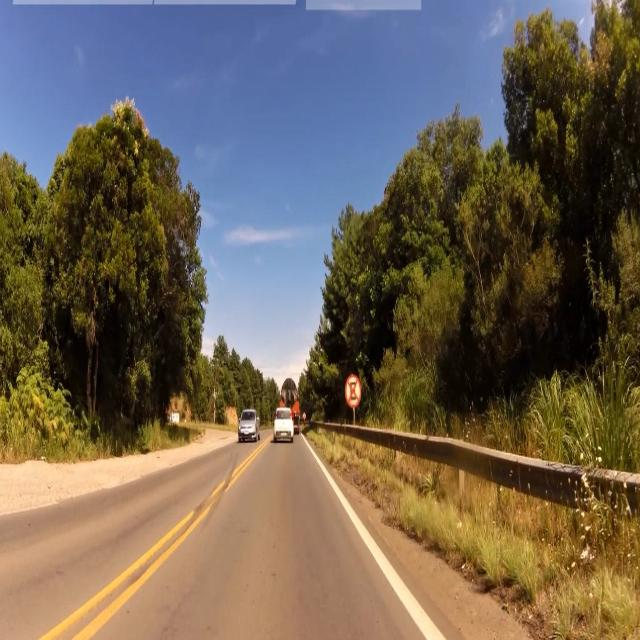R-6c: (346, 370, 361, 409)
